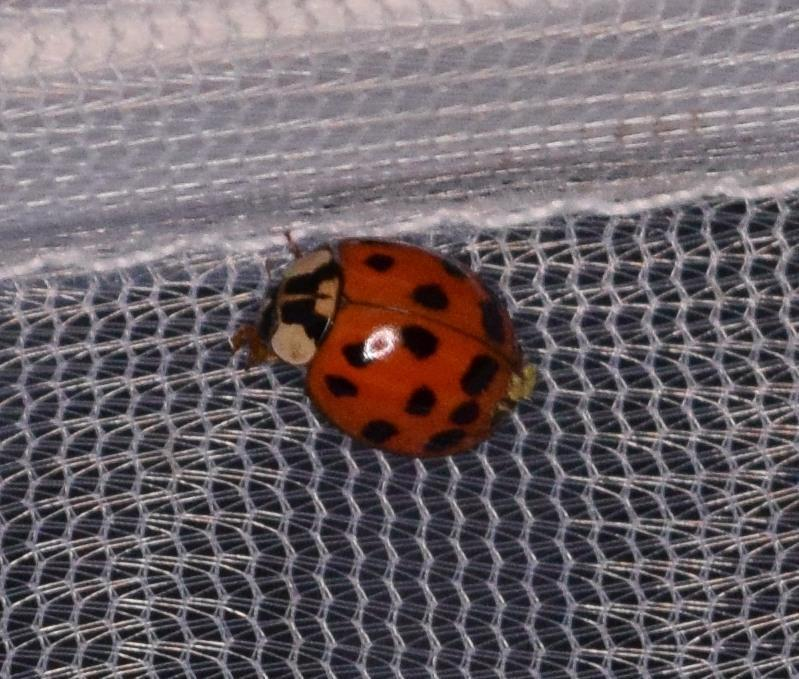ladybug: (239, 225, 535, 461)
